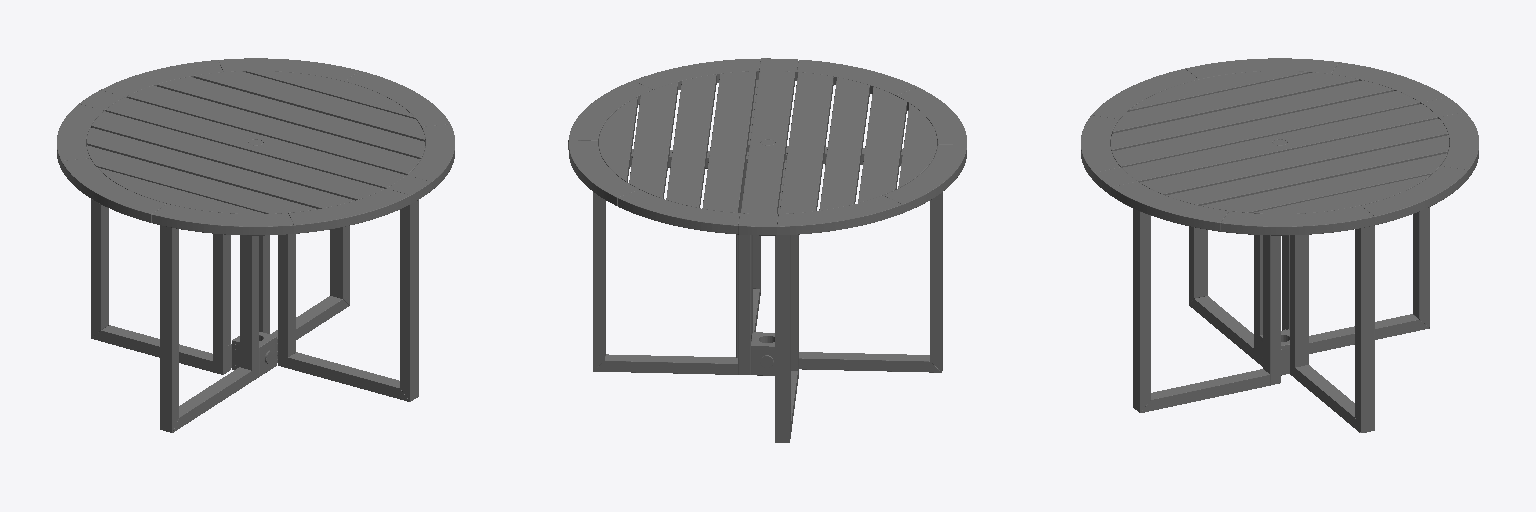
File: Patio_Dining_Table_Round_6_Seats_01.obj
The picture shows the model from 3 angles: view 1: azimuth 30°, elevation 25°; view 2: azimuth 150°, elevation 25°; view 3: azimuth 270°, elevation 25°; orthographic projection.
Parts seen in each view (by area): view 1: Patio_Table_top, Table_legs, Patio_Dining_Table_Round; view 2: Patio_Table_top, Table_legs, Patio_Dining_Table_Round; view 3: Patio_Table_top, Table_legs.
Boxes of the visible parts, x1,y1,x2,y2 form: Patio_Table_top: [57, 58, 454, 235]; Table_legs: [91, 199, 418, 432]; Patio_Dining_Table_Round: [232, 332, 276, 376]; Patio_Table_top: [568, 58, 966, 235]; Table_legs: [593, 80, 942, 442]; Patio_Dining_Table_Round: [751, 332, 774, 375]; Patio_Table_top: [1081, 58, 1478, 235]; Table_legs: [1133, 207, 1429, 432].
Bounding box in the file's own units: 122 × 76.62 × 122.